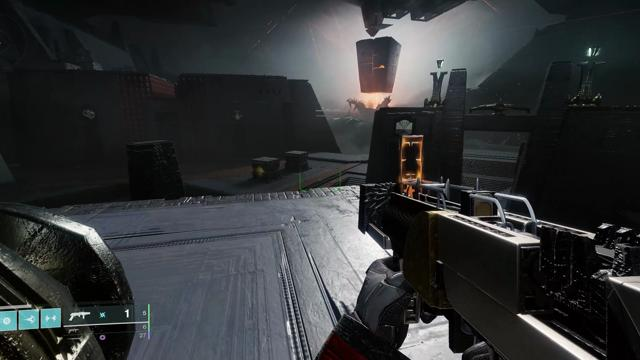brain: (81, 108, 96, 121)
commune: (396, 120, 413, 137)
drink: (231, 109, 244, 120)
